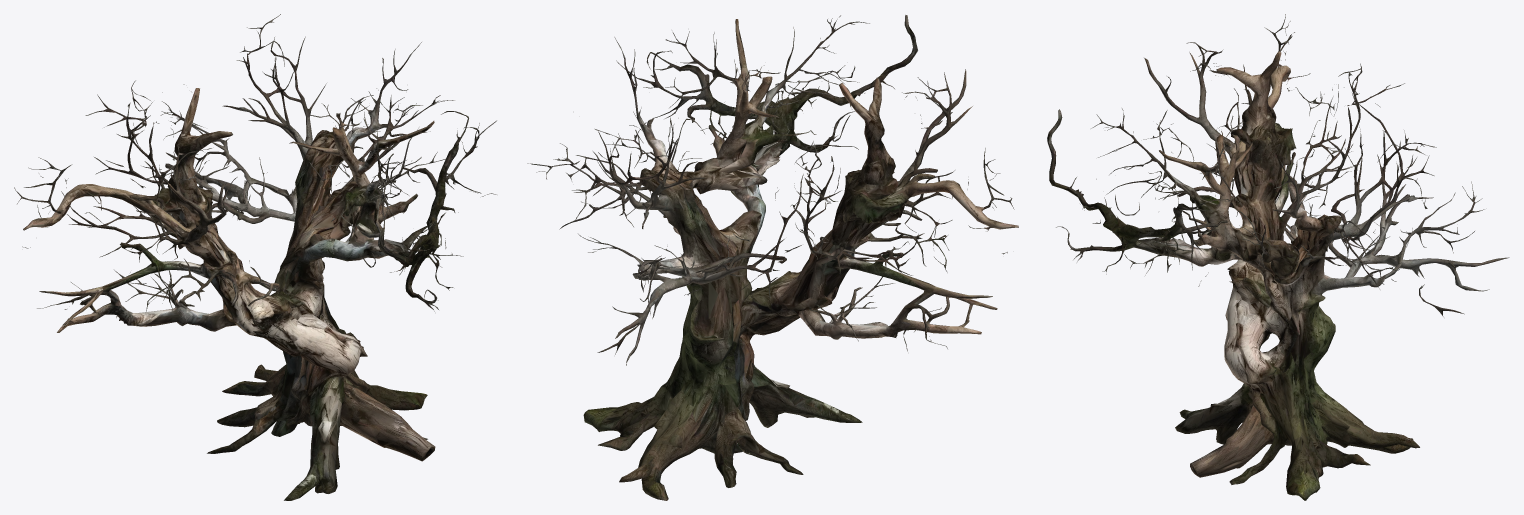
Rendered from tree-balanced.glb.
3 views of the same model, side by side, from view 1: azimuth 30°, elevation 25°; view 2: azimuth 150°, elevation 25°; view 3: azimuth 270°, elevation 25° (orthographic). The views are drawn at different scales.
Visible parts, largest first — view 1: Twisted tree balanced; view 2: Twisted tree balanced; view 3: Twisted tree balanced.
Part boxes in pixels (x1,y1,x2,y2): Twisted tree balanced: (14,14,496,500); Twisted tree balanced: (527,15,1018,500); Twisted tree balanced: (1047,14,1509,500).
Bounding box in the file's own units: 1.2 × 1 × 1.21.
Materials: 1 (1 with a texture image).
